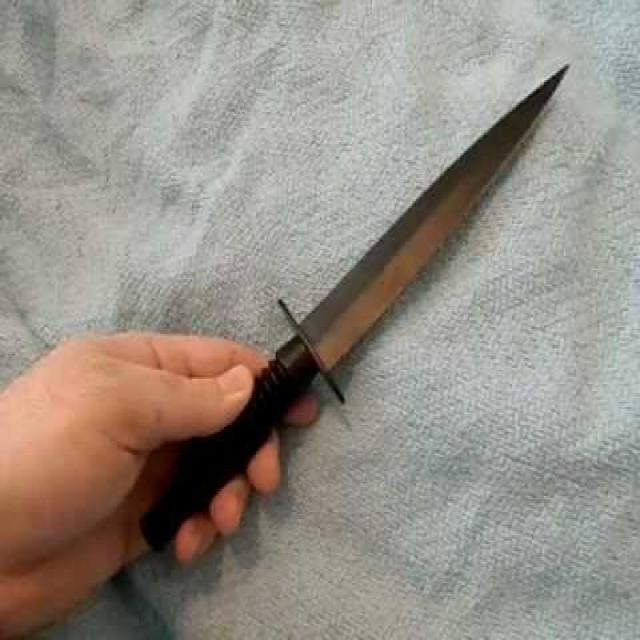knife: (133, 58, 579, 563)
